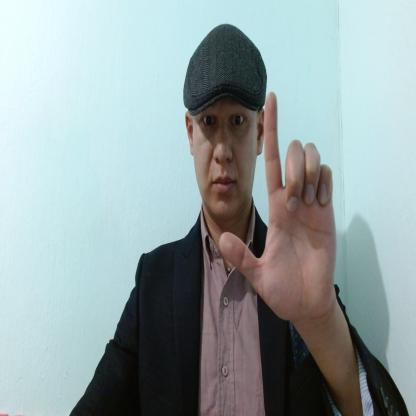L: (220, 89, 337, 321)
